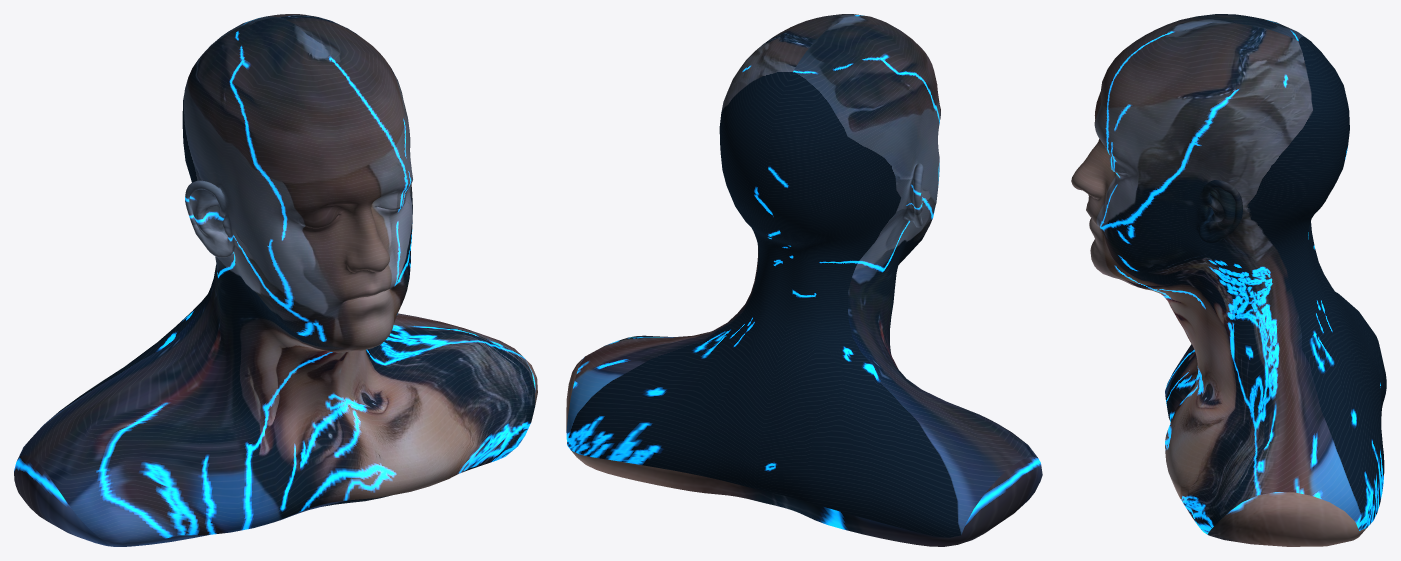
Rendered from holo_1768508564926.glb.
3 renders of one model, left to right at view 1: azimuth 30°, elevation 25°; view 2: azimuth 150°, elevation 25°; view 3: azimuth 270°, elevation 25°, orthographic. The views are drawn at different scales.
Visible parts, largest first — view 1: LeePerrySmith; view 2: LeePerrySmith; view 3: LeePerrySmith.
Part boxes in pixels (<box>): LeePerrySmith: <box>14,14,537,546</box>; LeePerrySmith: <box>566,14,1042,546</box>; LeePerrySmith: <box>1071,14,1386,546</box>.
Size of the model in its own units: 8.55 by 7.95 by 5.18.
1 material, 1 textured.
